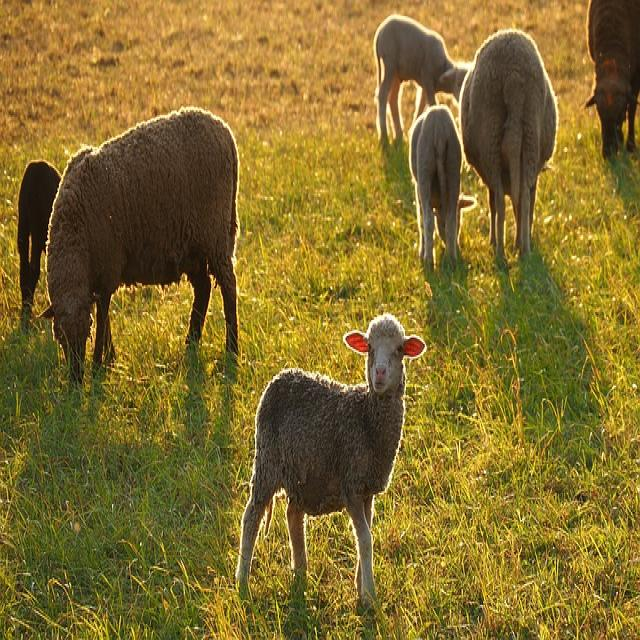goat: (237, 315, 426, 630), (43, 107, 241, 379), (458, 29, 559, 269), (373, 14, 467, 147), (407, 101, 465, 267), (588, 0, 640, 157)
